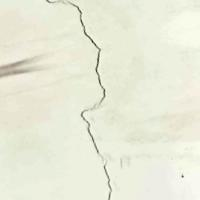crack: (41, 0, 145, 199)
